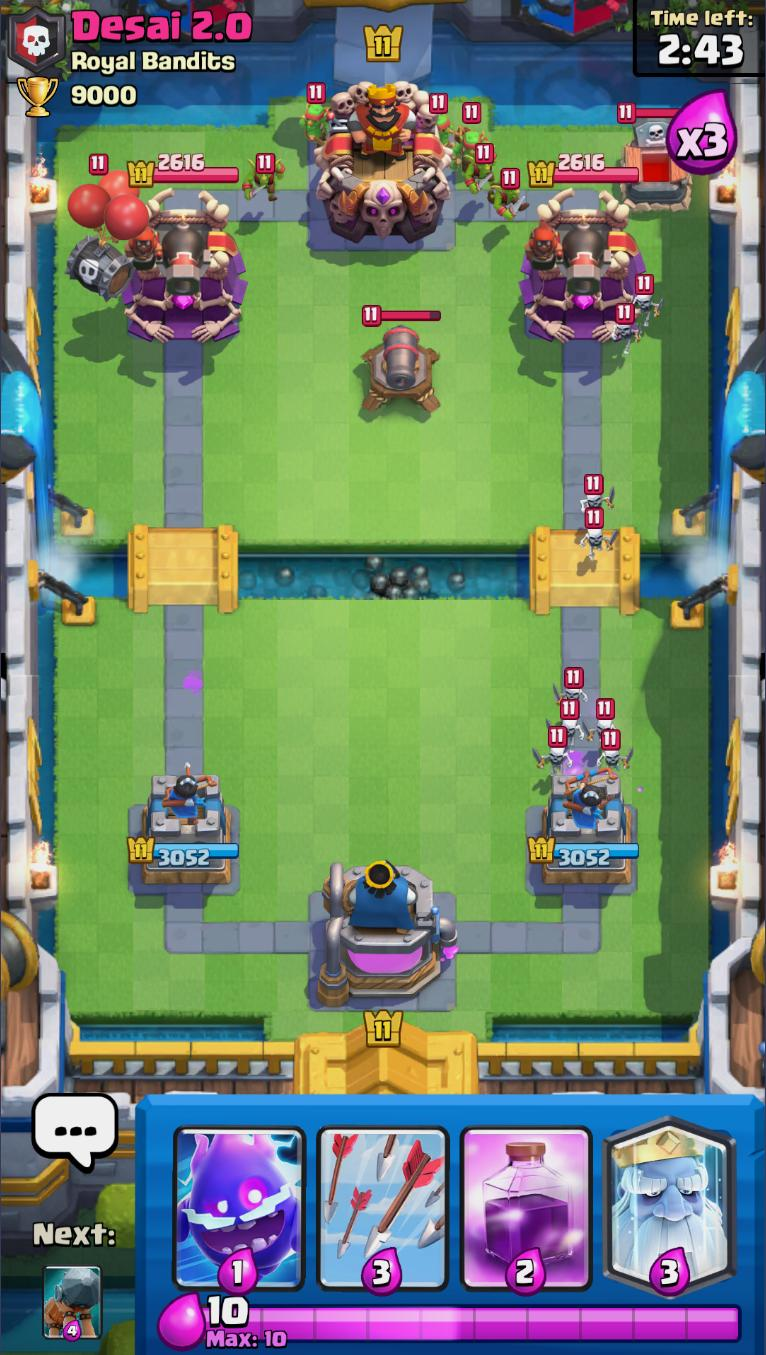ArrowDeck: (311, 1099, 454, 1293)
BattleRamNext: (41, 1263, 103, 1340)
Cannon: (360, 303, 443, 420)
Cannoneer: (524, 211, 610, 296), (124, 211, 207, 297)
ElectroSpiritDeck: (171, 1099, 310, 1294)
Elixir: (201, 1294, 746, 1349)
EnemyTower: (517, 184, 650, 344), (117, 187, 249, 343)
Goblin: (483, 169, 529, 226), (243, 150, 284, 210), (463, 141, 501, 191)
KingTower: (311, 77, 457, 246)
MyKingTower: (314, 857, 460, 1004)
MyPrincessTower: (527, 769, 643, 891), (126, 770, 241, 890)
MyPrincessTowerHP: (524, 831, 643, 871), (126, 831, 240, 870)
RageDeck: (454, 1099, 600, 1293)
RoyaleGhostDeck: (600, 1097, 740, 1293)
Skeleton: (531, 724, 574, 775), (593, 727, 634, 777), (577, 509, 617, 560), (631, 274, 664, 329), (581, 697, 619, 742), (610, 304, 644, 354), (545, 697, 582, 739), (581, 473, 617, 514), (551, 667, 587, 705)
SkeletonBarrel: (63, 154, 146, 306)
SpearGoblin: (450, 103, 494, 173), (299, 84, 330, 147), (426, 93, 457, 150)
Tombstone: (614, 101, 693, 214)
TowerPrincessHP: (526, 151, 641, 190), (124, 151, 240, 187)
